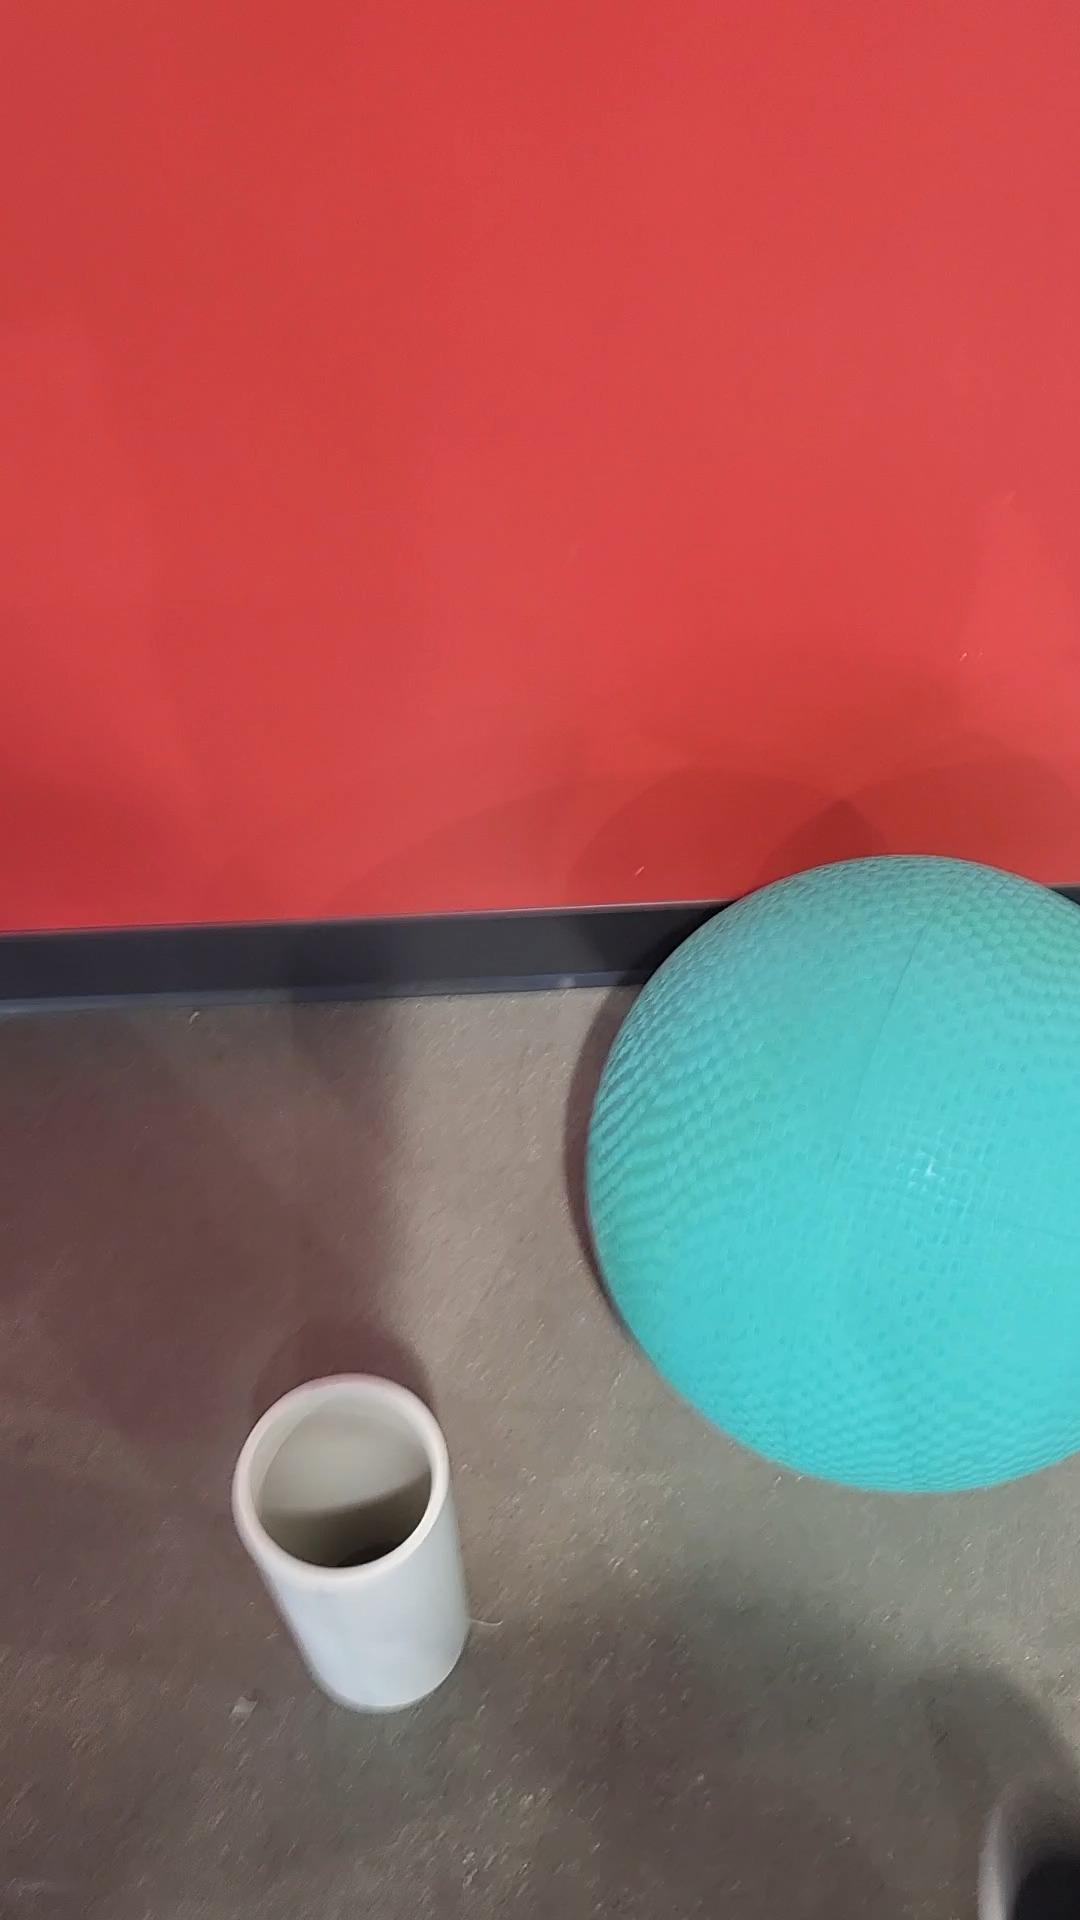algae: (579, 847, 1079, 1495)
coral: (232, 1366, 473, 1712)
